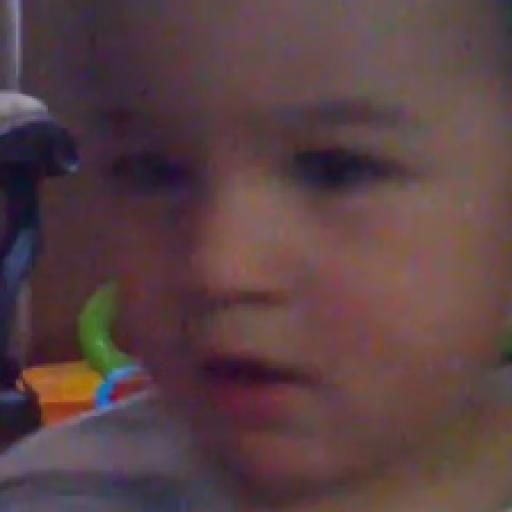Autism: (56, 10, 512, 504)
